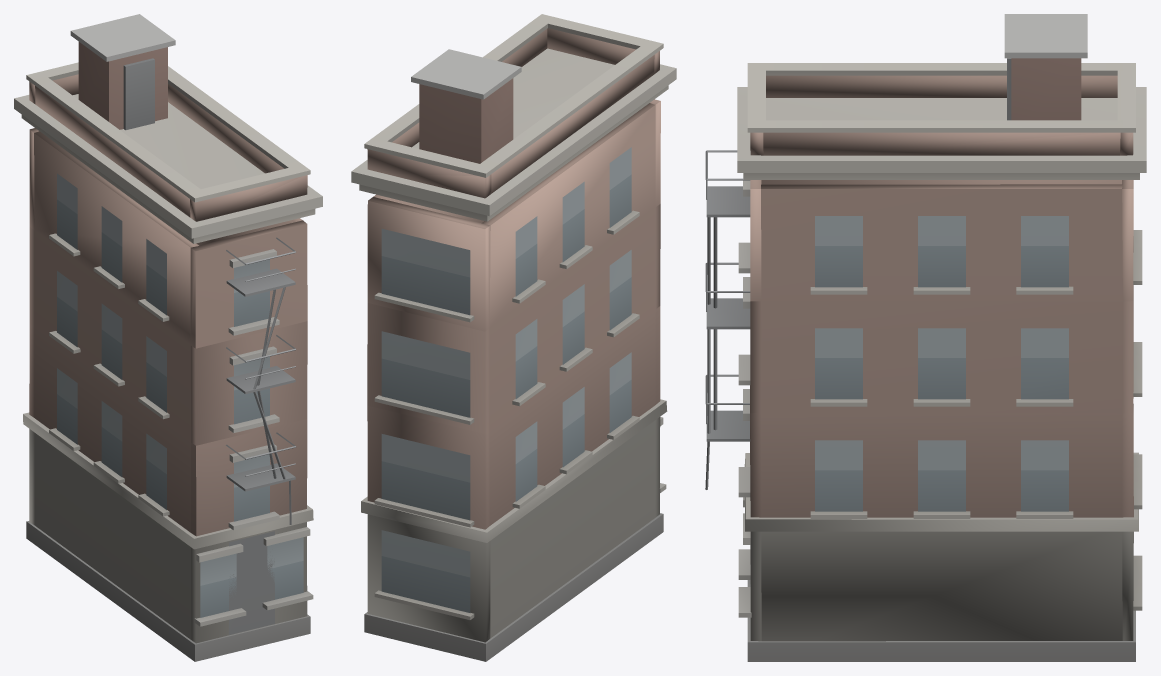
Rendered from walkup.lod1.glb.
The picture shows the model from 3 angles, left to right: view 1: azimuth 30°, elevation 25°; view 2: azimuth 150°, elevation 25°; view 3: azimuth 270°, elevation 25°; orthographic projection. The views are drawn at different scales.
Bounding box in the file's own units: 4 × 15.06 × 10.1.
